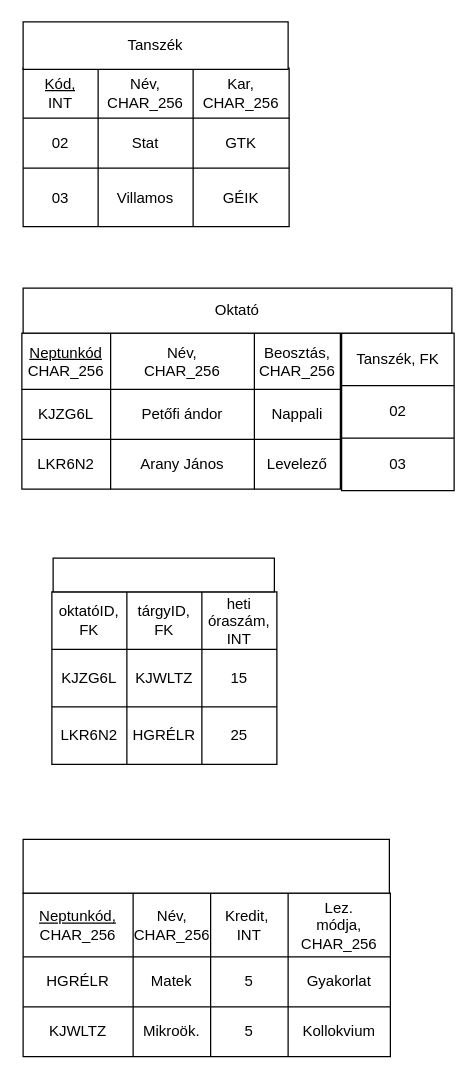
Some shapes in this 476 by 1079 pixel diagram are drawn without their labels. The centre of each missing label's shape, as x and y in pixels:
Tantárgy: pixel 205 865
tanév/félév: pixel 163 574
